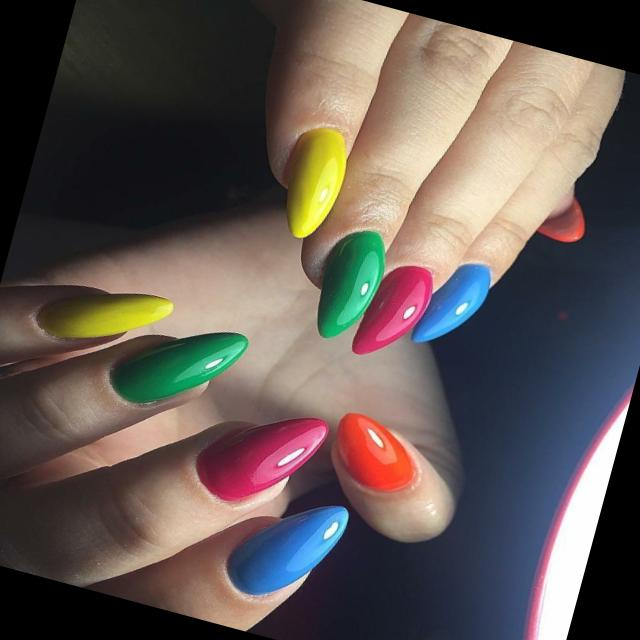Nail: (195, 417, 327, 501), (226, 506, 346, 594), (111, 331, 247, 404), (316, 230, 384, 338), (350, 266, 431, 353), (284, 127, 345, 237), (36, 293, 172, 338), (336, 412, 413, 491), (412, 263, 489, 341), (536, 197, 583, 242)
